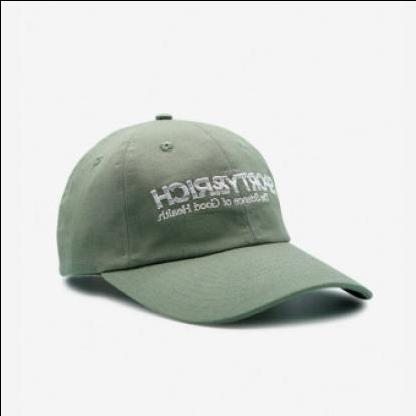cap: (42, 107, 382, 330)
